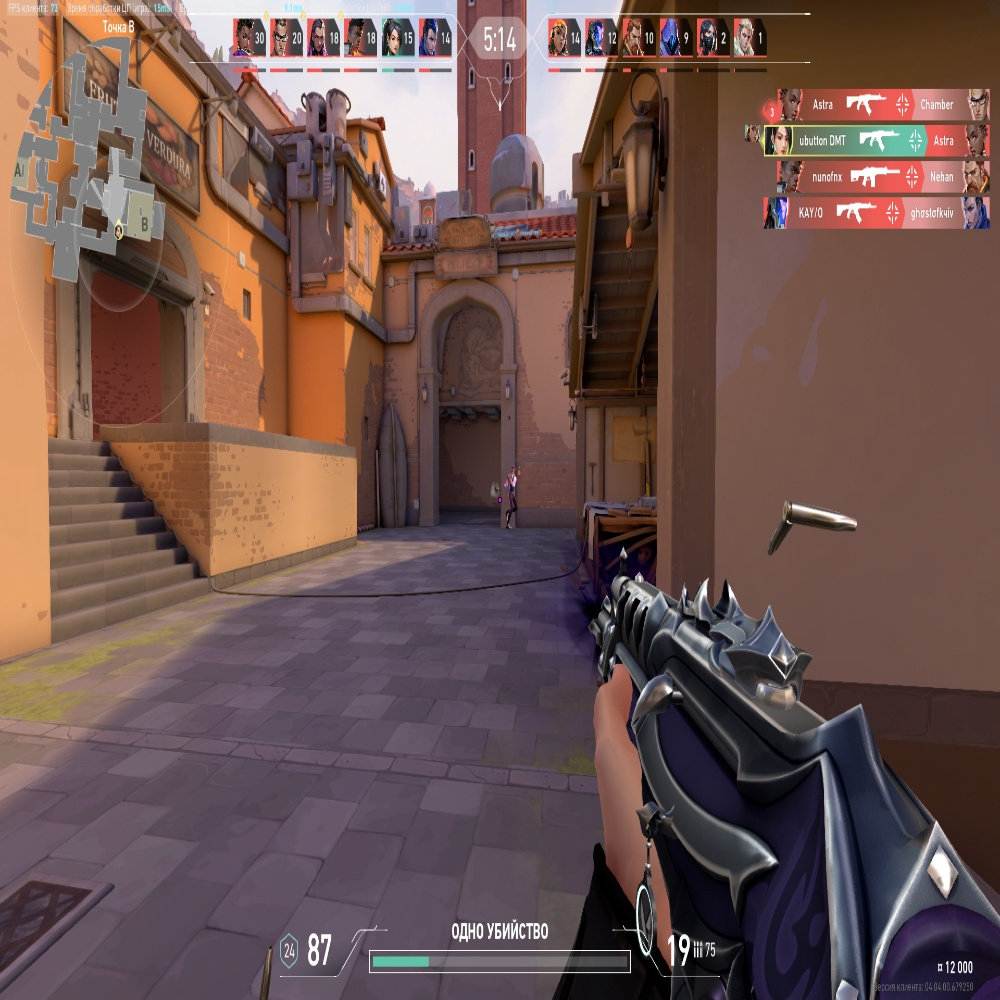body: (508, 476, 516, 494)
head: (510, 466, 515, 475)
